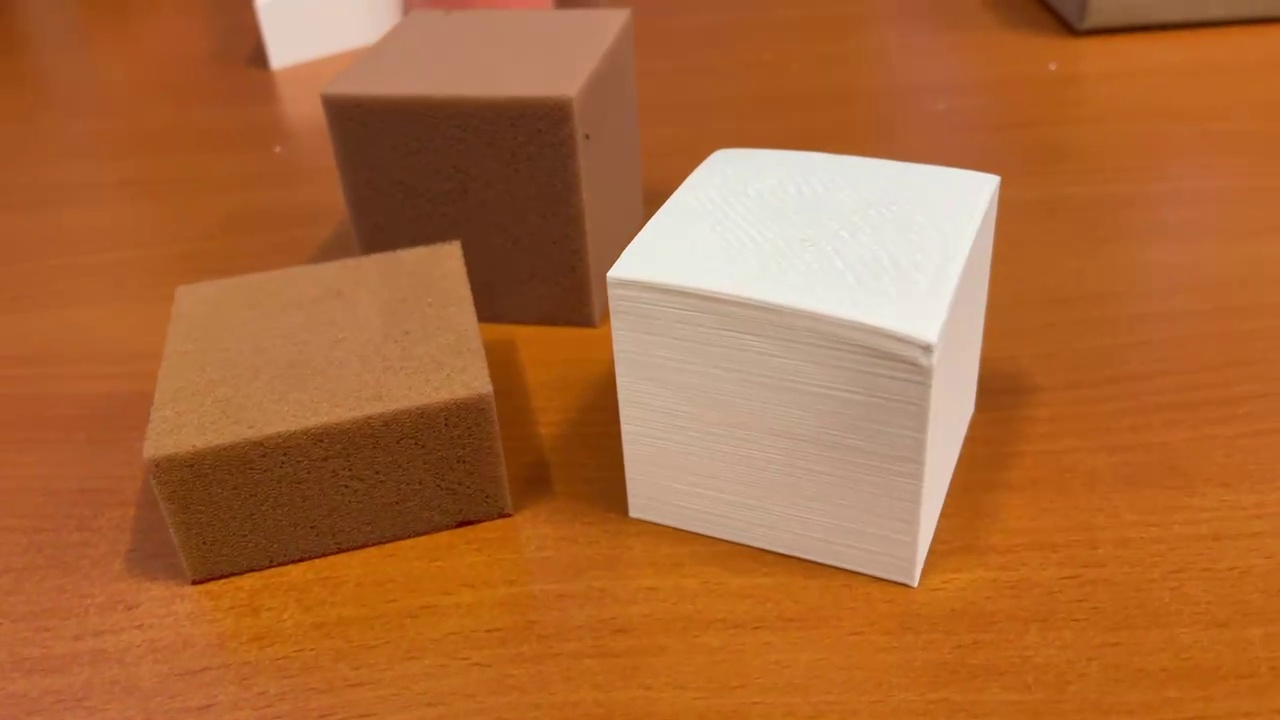Cube: (602, 140, 1005, 593), (317, 7, 651, 331)
Cube_short: (134, 229, 522, 594)
